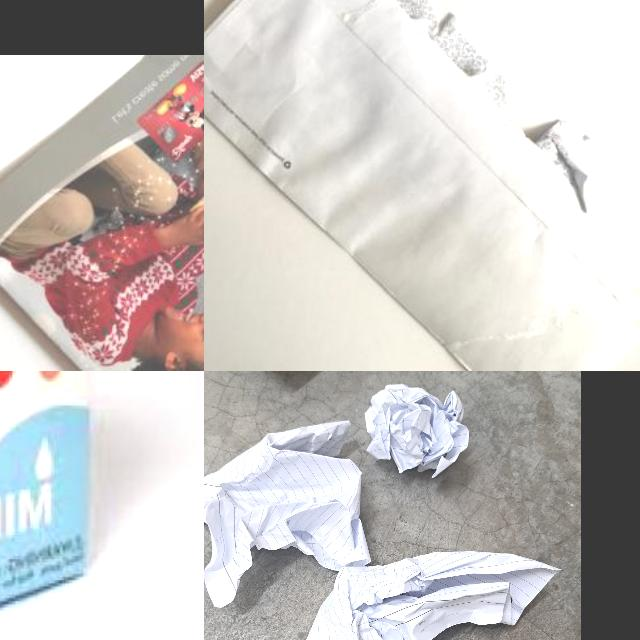caixinha: (0, 371, 100, 640)
papel: (204, 0, 640, 371), (0, 54, 204, 371), (204, 419, 373, 608), (280, 550, 561, 640), (364, 384, 468, 478)
